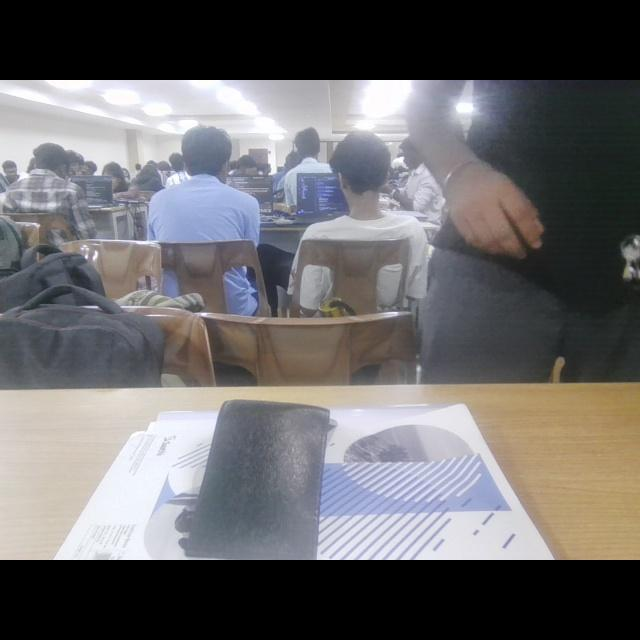wallet: (182, 384, 356, 560)
